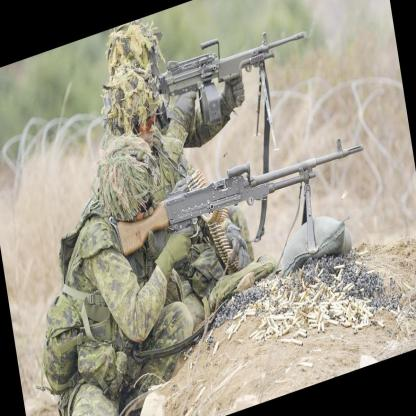rifle: (119, 112, 371, 268), (158, 15, 314, 120)
